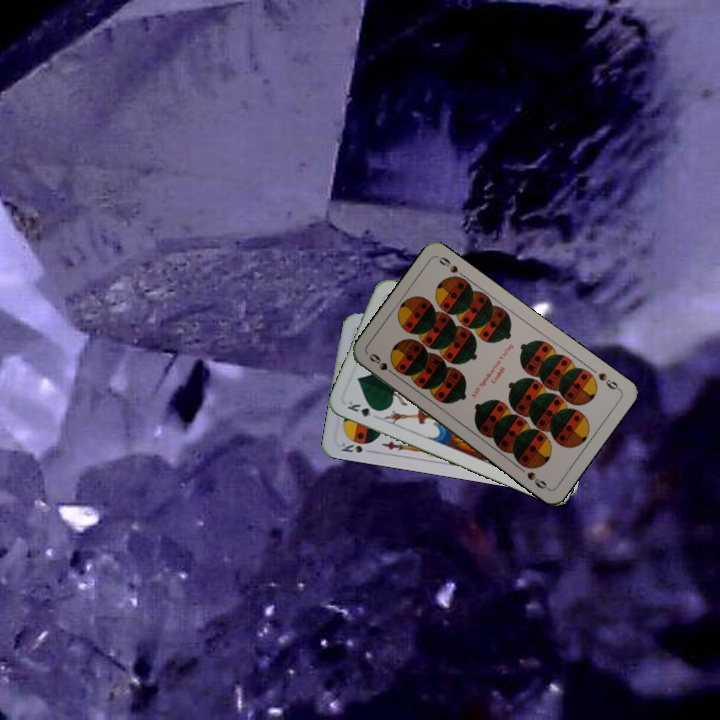GK: (343, 397, 383, 419)
S9: (365, 349, 400, 379), (594, 368, 623, 393)
SK: (337, 436, 373, 456)
